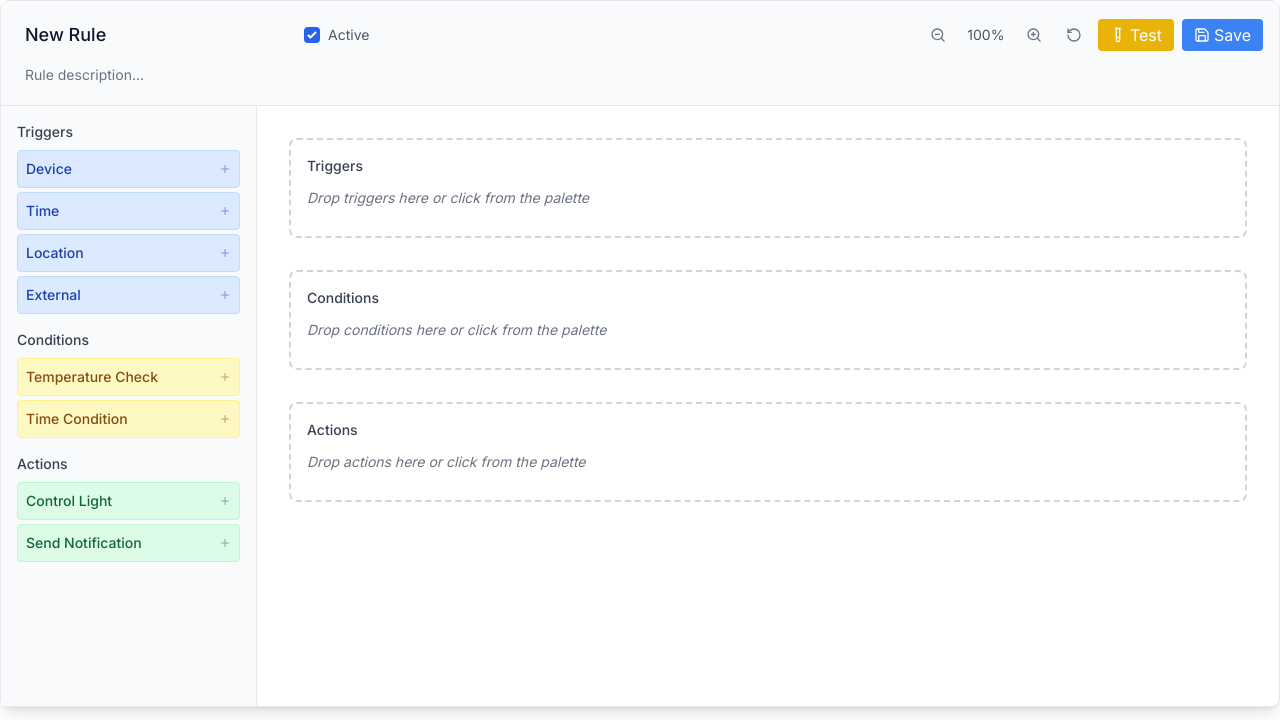
Test: RuleBuilder Component › Zoom and Pan Controls › zooms in when zoom in button is clicked
This screenshot has width=1280, height=720.
Click the button titled "Zoom In": (1034, 35) [1018,19,1050,51]
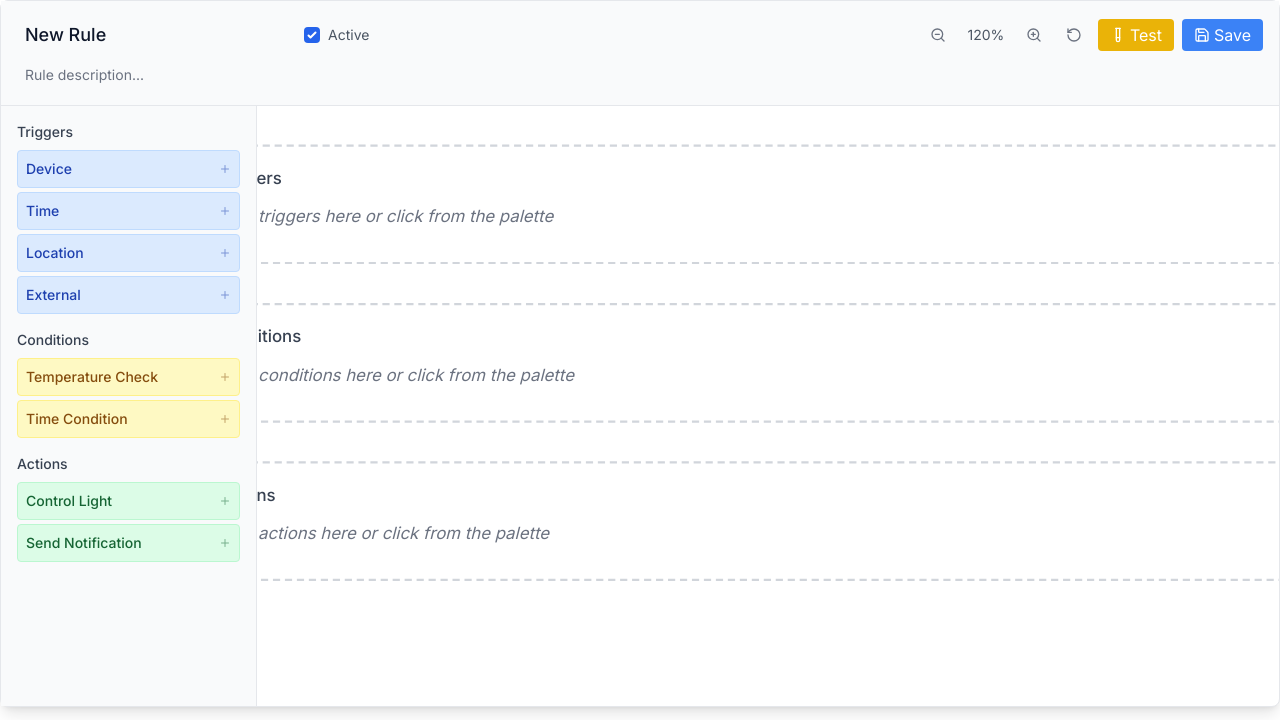
Check: the text "120%" is shown, box [968,26,1004,43]
